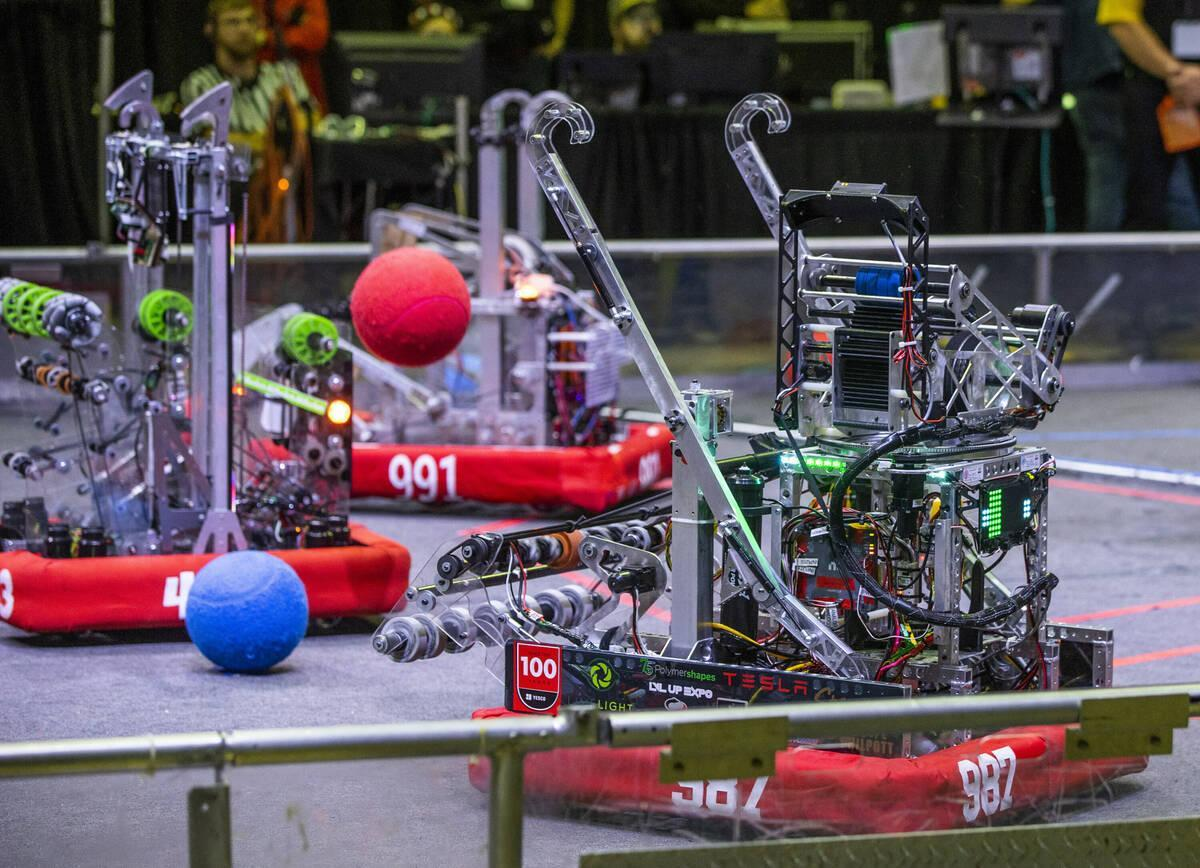robot: (369, 80, 1175, 834), (0, 63, 420, 635), (312, 74, 683, 521)
